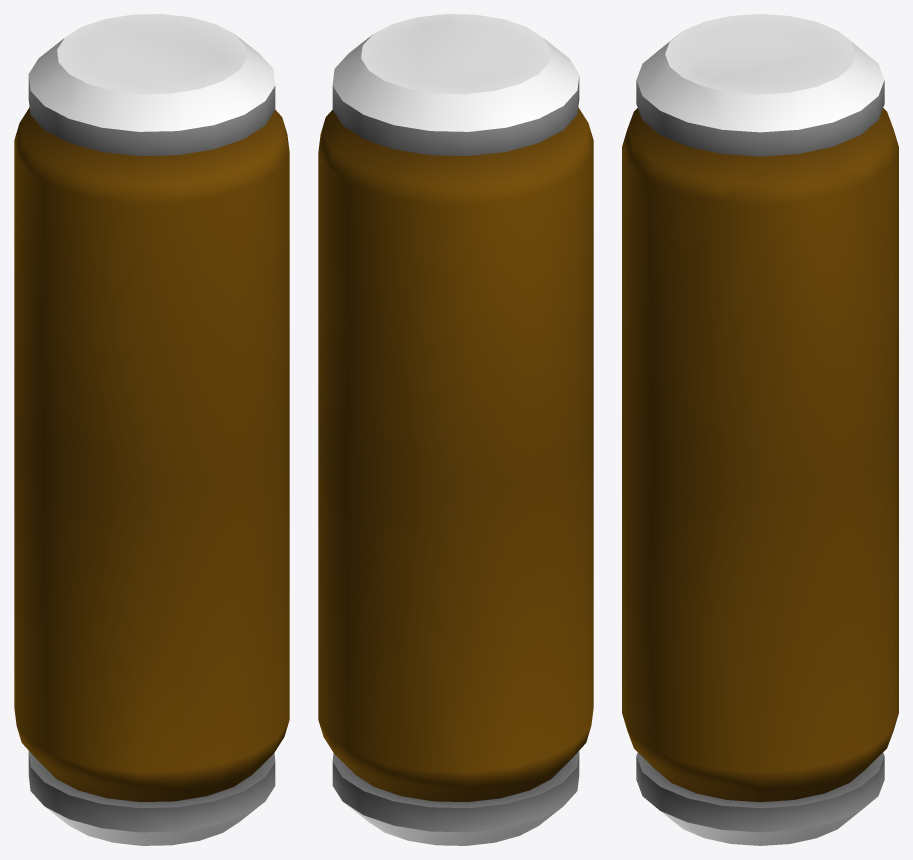
Rendered from obj_dekotora_spinningsign01.fbx.
3 renders of one model, left to right at view 1: azimuth 30°, elevation 25°; view 2: azimuth 150°, elevation 25°; view 3: azimuth 270°, elevation 25°, orthographic.
Parts seen in each view (by area): view 1: Cylinder.050; view 2: Cylinder.050; view 3: Cylinder.050.
Boxes of the visible parts, bbox=[...] form: Cylinder.050: bbox=[14, 14, 289, 845]; Cylinder.050: bbox=[318, 14, 593, 845]; Cylinder.050: bbox=[622, 14, 898, 845].
Bounding box in the file's own units: 1 × 3 × 1.
